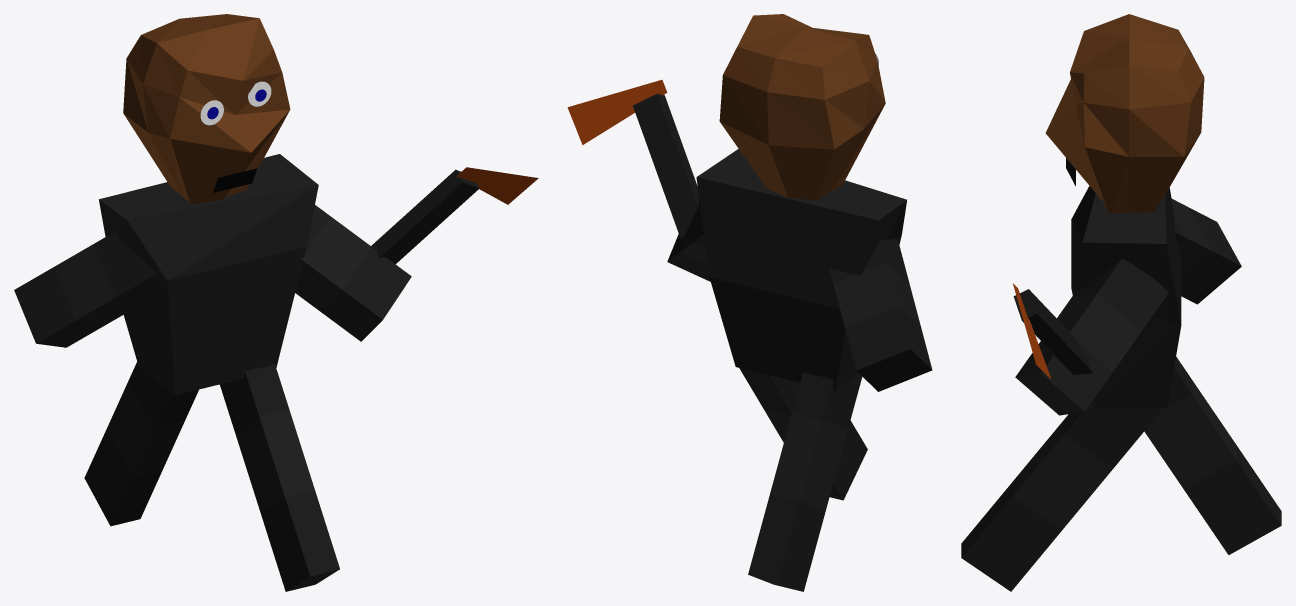
The model's file is axeman3.obj.
3 views of the same model, side by side, from view 1: azimuth 30°, elevation 25°; view 2: azimuth 150°, elevation 25°; view 3: azimuth 270°, elevation 25° (orthographic).
Visible parts, largest first — view 1: Cube.001, Cube, Cube.005, Cube.004, Cube.003, Cube.002, Cube.007, Plane.001; view 2: Cube.001, Cube, Cube.004, Cube.003, Cube.007, Cube.005, Plane.001, Cube.002; view 3: Cube, Cube.005, Cube.001, Cube.004, Cube.002, Cube.003, Cube.007, Plane.001.
Boxes of the visible parts, box(x1,y1,x2,y2) form: Cube.001: box(99, 154, 318, 395); Cube: box(123, 14, 290, 203); Cube.005: box(219, 364, 339, 591); Cube.004: box(84, 362, 198, 526); Cube.003: box(14, 232, 156, 347); Cube.002: box(295, 205, 411, 341); Cube.007: box(371, 169, 479, 264); Plane.001: box(456, 167, 538, 204); Cube.001: box(696, 149, 906, 391); Cube: box(719, 14, 885, 200); Cube.004: box(748, 372, 862, 591); Cube.003: box(829, 238, 932, 391); Cube.007: box(633, 93, 699, 239); Cube.005: box(739, 368, 867, 500); Plane.001: box(567, 80, 667, 144); Cube.002: box(667, 201, 710, 281); Cube: box(1045, 14, 1204, 213); Cube.005: box(961, 400, 1163, 591); Cube.001: box(1071, 186, 1181, 407); Cube.004: box(1144, 356, 1281, 554); Cube.002: box(1015, 258, 1168, 415); Cube.003: box(1171, 199, 1241, 304); Cube.007: box(1013, 289, 1092, 374); Plane.001: box(1013, 283, 1051, 379).
Size of the model in its own units: 5.03 by 5.79 by 3.17.
